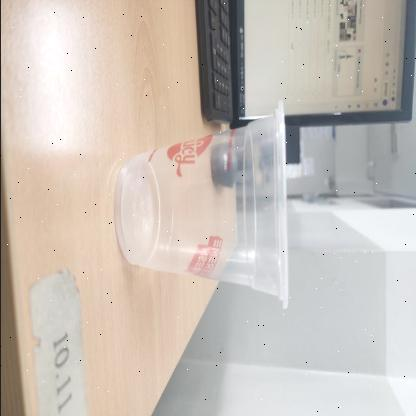Others: (114, 101, 288, 312)
